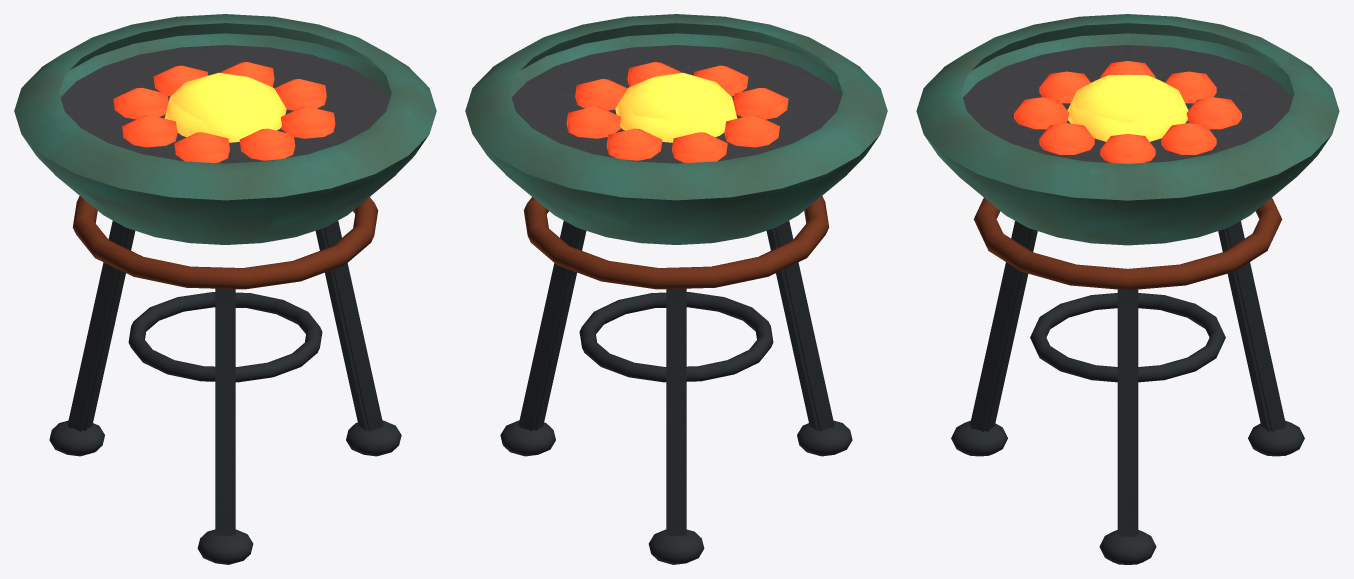
Rendered from brazier_cobre_tripod.glb.
3 views of the same model, side by side, from view 1: azimuth 30°, elevation 25°; view 2: azimuth 150°, elevation 25°; view 3: azimuth 270°, elevation 25° (orthographic).
Parts seen in each view (by area): view 1: brazier_cobre_tripod; view 2: brazier_cobre_tripod; view 3: brazier_cobre_tripod.
Boxes of the visible parts, box(x1,y1,x2,y2) form: brazier_cobre_tripod: box(14, 14, 436, 564); brazier_cobre_tripod: box(465, 14, 887, 564); brazier_cobre_tripod: box(916, 14, 1339, 564).
Bounding box in the file's own units: 1.04 × 1.1 × 1.04.
Materials: 1 (1 with a texture image).
